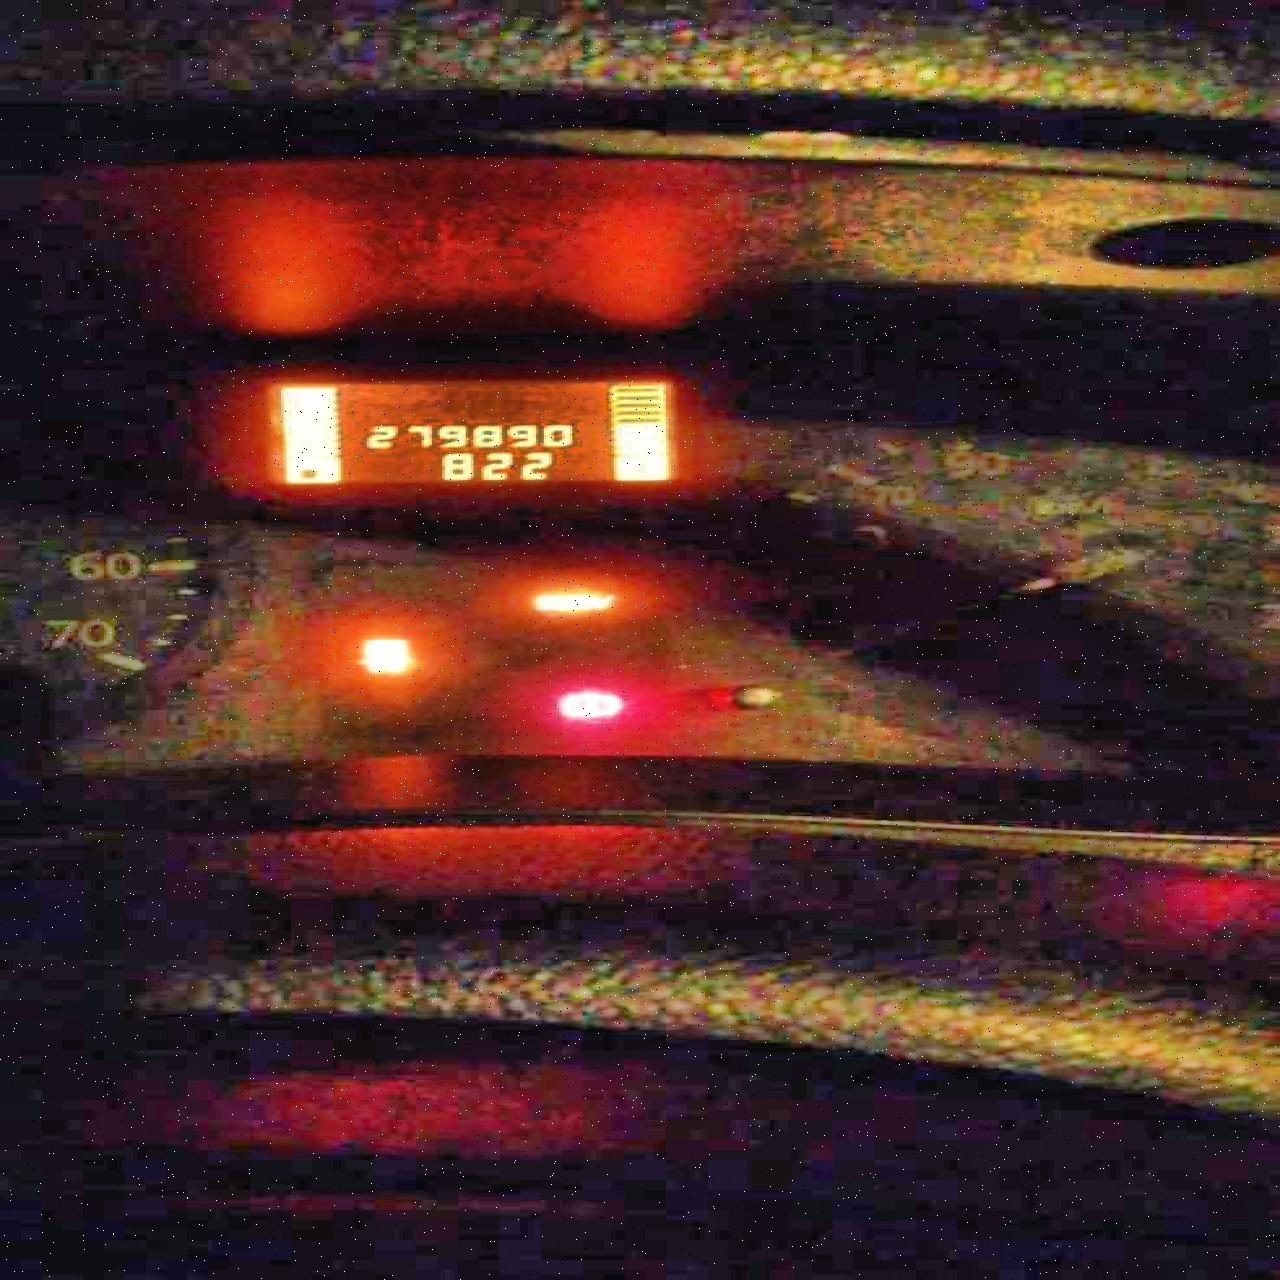0: (538, 422, 570, 448)
2: (478, 450, 516, 479), (520, 450, 551, 479), (361, 423, 395, 448)
7: (406, 424, 429, 447)
8: (437, 450, 474, 481), (471, 423, 499, 448)
9: (435, 422, 465, 448), (505, 422, 536, 447)
odometer: (250, 367, 715, 503)
